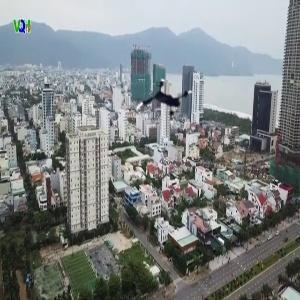drone: (132, 71, 203, 142)
